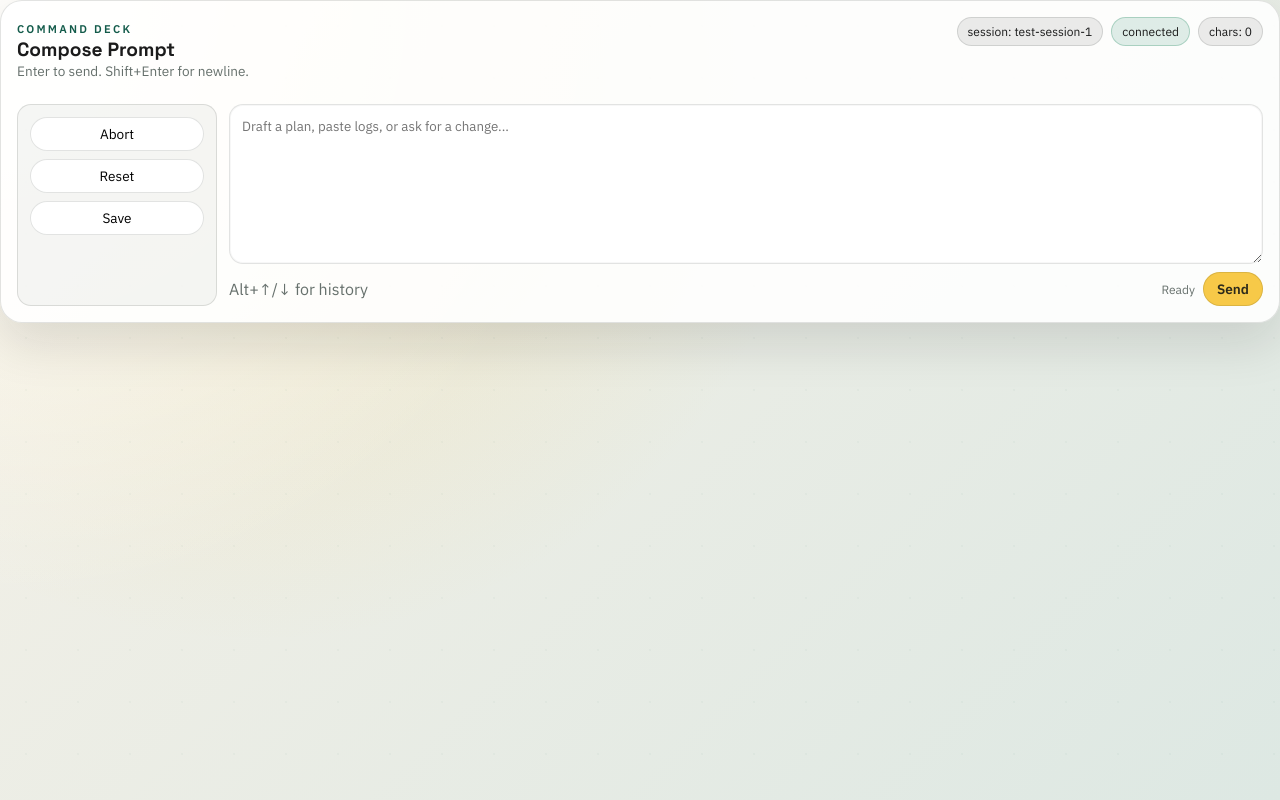
Test: Composer › rendering › displays character count
Expected: the text "chars: 0" is shown, [1198,17,1263,46]
Step 1. Type "Hello world" into the text box with placeholder "Draft a plan, paste logs, or ask for a change..." → (746, 184), box [229,104,1263,264]
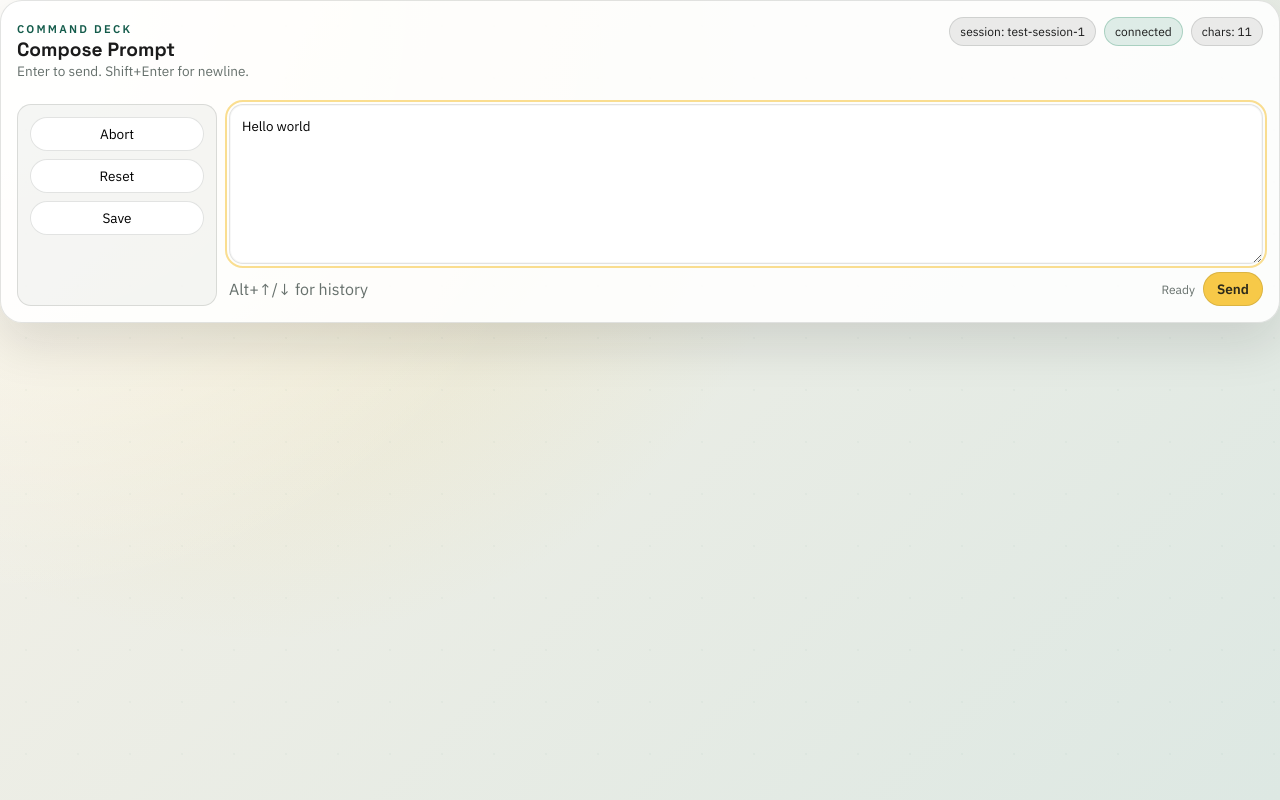
Expected: the text "chars: 11" is shown, [1191,17,1263,46]
